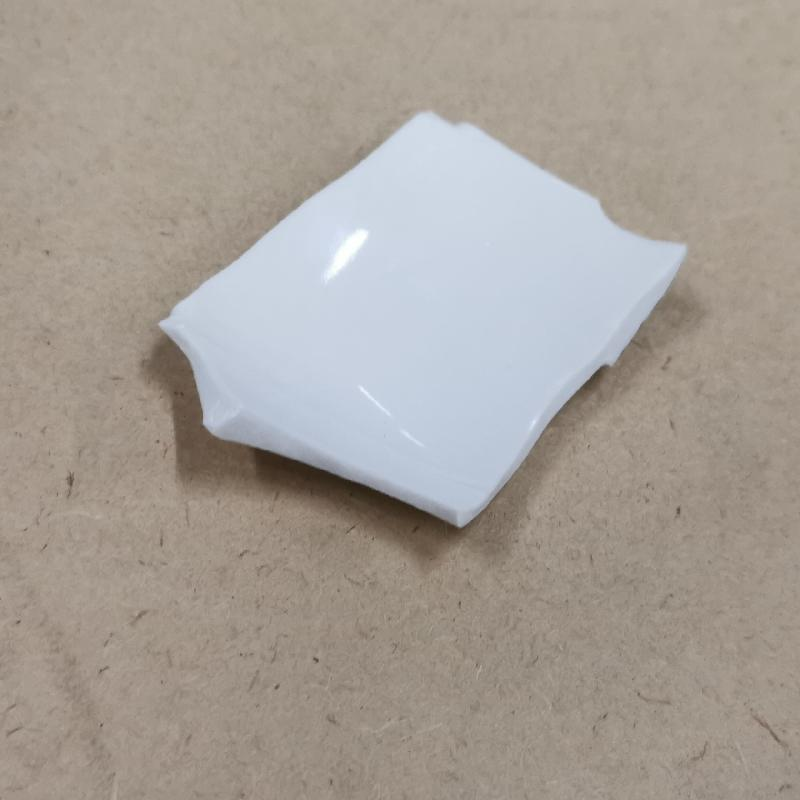ceram: (157, 102, 696, 547)
